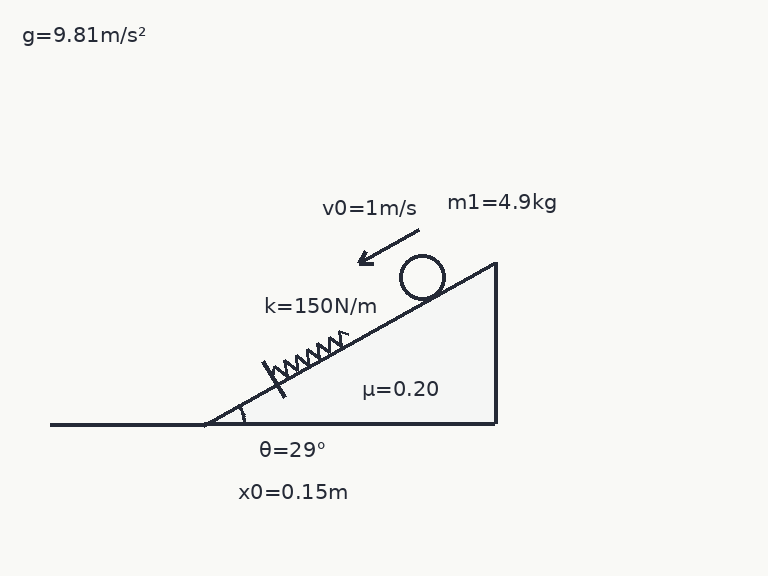ball: (397, 252, 447, 302)
ramp: (202, 261, 496, 426)
spring: (270, 329, 350, 378)
